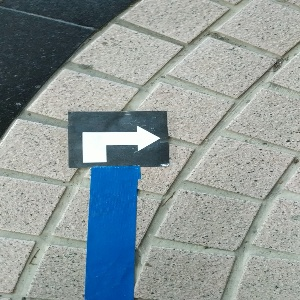right: (67, 112, 169, 167)
